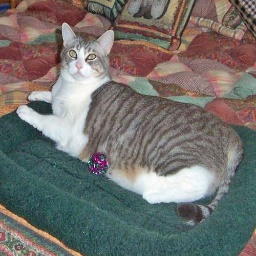cat: (18, 19, 241, 219)
